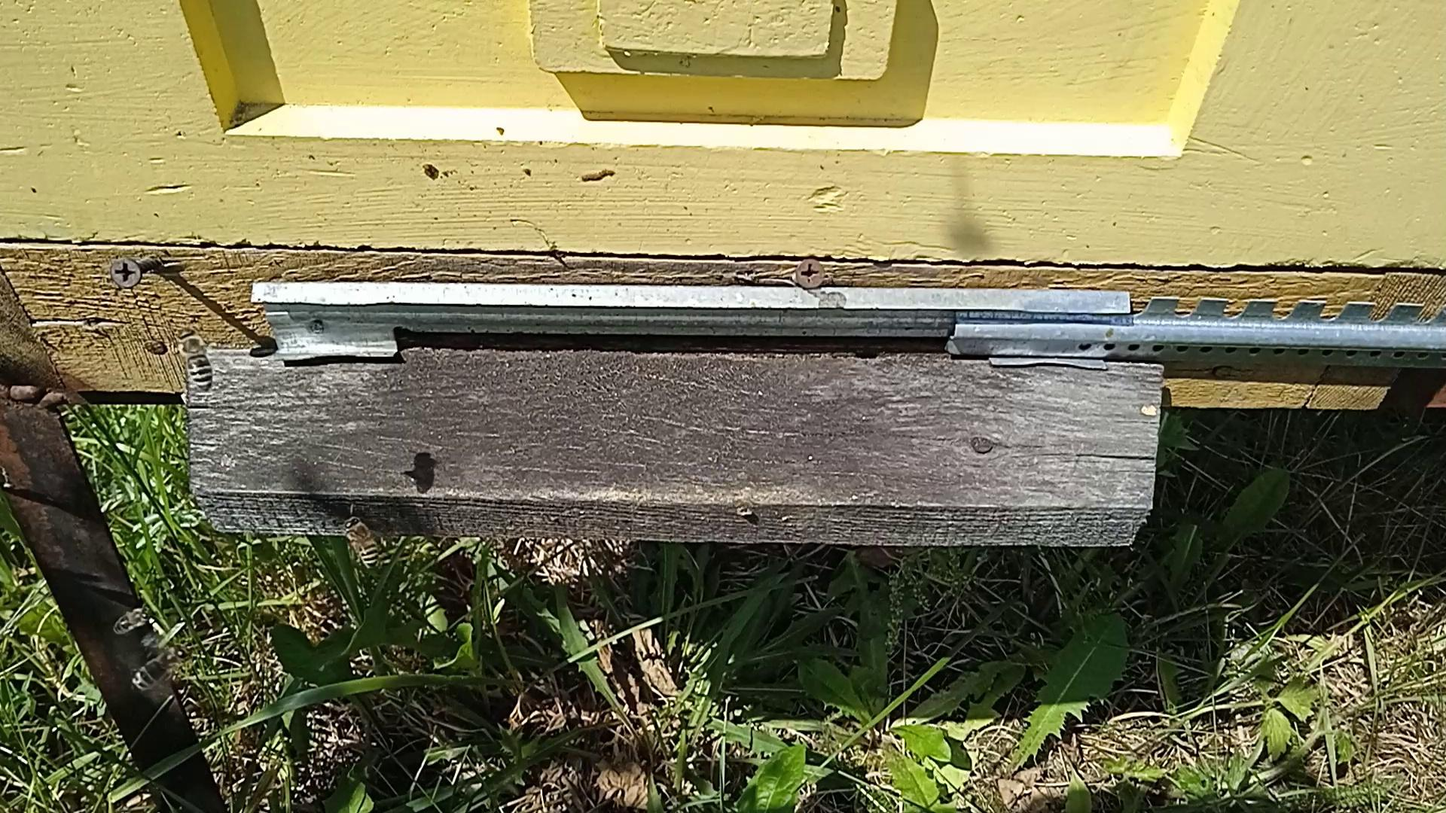worker-bee: (130, 645, 187, 691), (175, 327, 215, 392), (343, 516, 382, 569), (112, 605, 150, 635)
